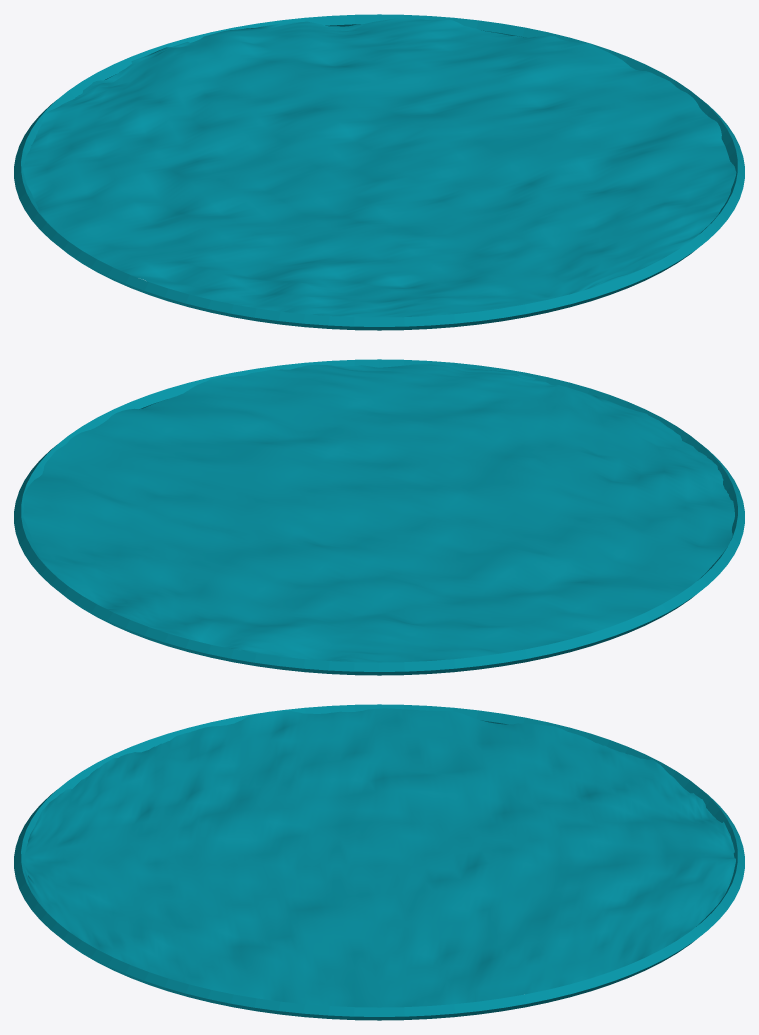
The model's file is water.obj.
3 views of the same model, one above another, from view 1: azimuth 30°, elevation 25°; view 2: azimuth 150°, elevation 25°; view 3: azimuth 270°, elevation 25° (orthographic).
Visible parts, largest first — view 1: Plane.001, Torus; view 2: Plane.001, Torus; view 3: Plane.001, Torus.
Part boxes in pixels (x1,y1,x2,y2): Plane.001: [23, 17, 736, 317]; Torus: [14, 14, 744, 330]; Plane.001: [23, 364, 734, 662]; Torus: [14, 359, 744, 675]; Plane.001: [24, 708, 735, 1007]; Torus: [14, 704, 744, 1020].
Size of the model in its own units: 51 by 1.24 by 50.97.
